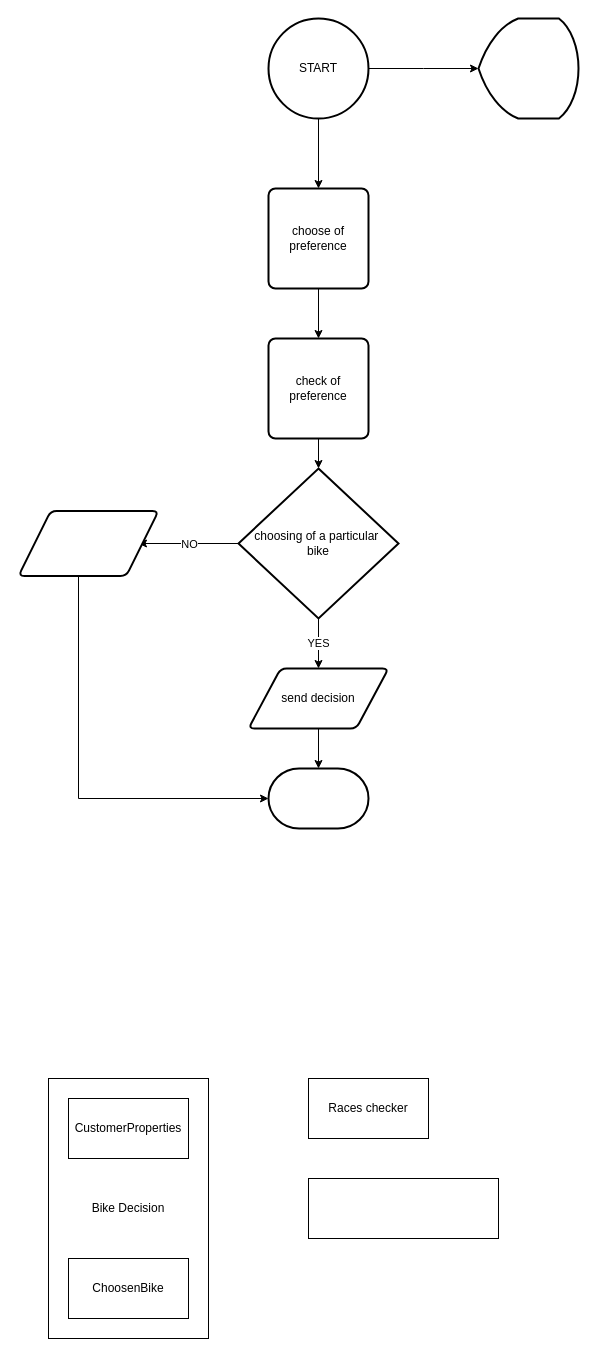
Image size: 596x1356. Some labels were removed from this diagram. The shapes that lost their labels are listed below. From the top down, each one's centre as x and y in pixels, then its label:
the point at 528,68: display 3 next races
the point at 88,543: send general information
the point at 318,798: THE END
the point at 403,1208: CustomerPropertiesAnalyzer
